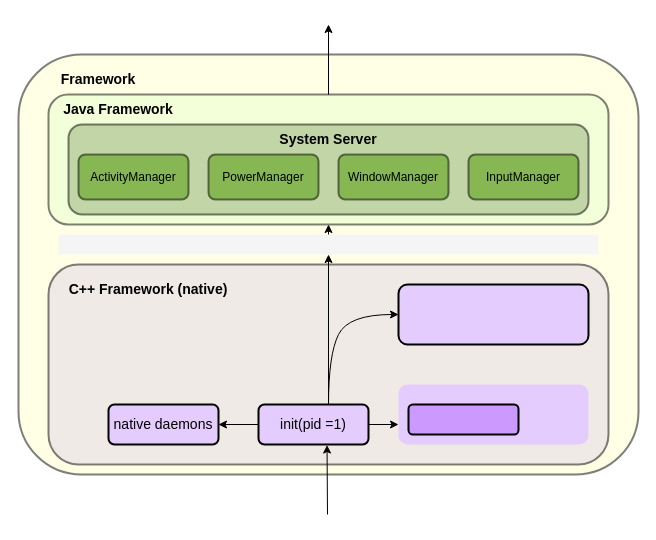
The diagram is 656 pixels wide and 540 high, and some of its shapes have lost their labels. Each missing label, with the box of its shape:
JNI: (58, 234, 598, 254)
Media Server: (397, 283, 589, 345)
ServiceManager: (407, 403, 519, 435)
